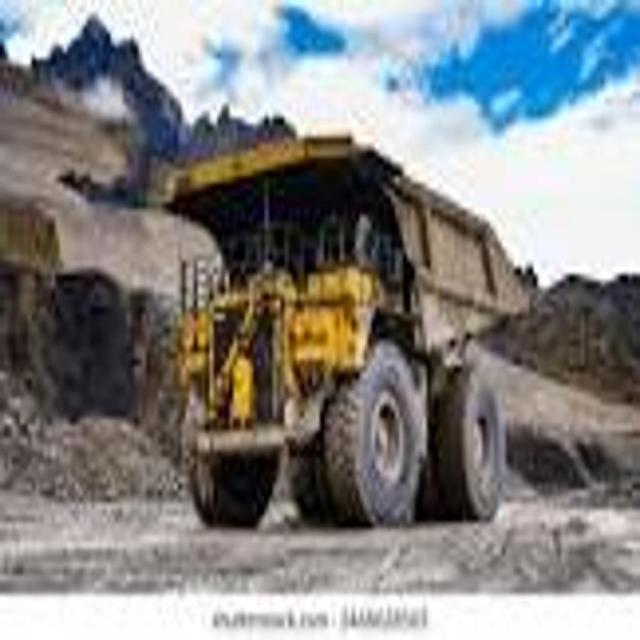dump_truck: (157, 94, 551, 540)
